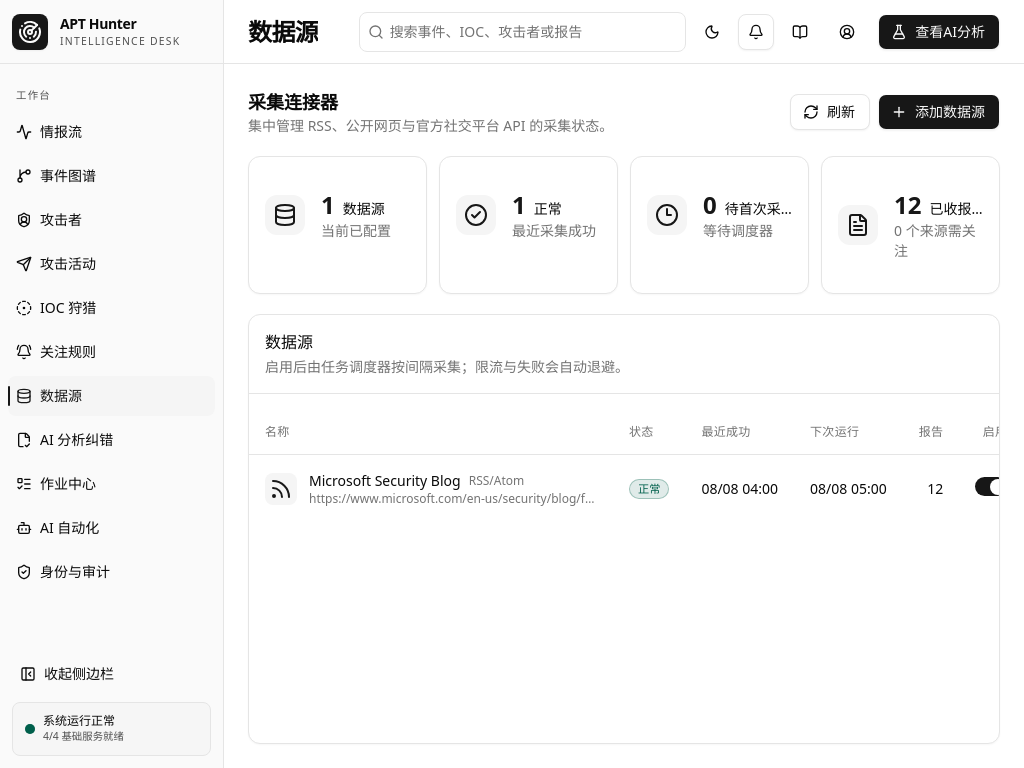
Test: source connector management › renders live source status and report counts
This screenshot has width=1024, height=768.
Expected: the text "12" is shown, 894,189 -> 922,221
Expected: the text "正常" is shown, 534,199 -> 562,219
What coordinates should you click on to do the following:
click the text "Microsoft Security Blog"
I would click on:
 (385, 480)
Its box is 309,470 -> 461,490.
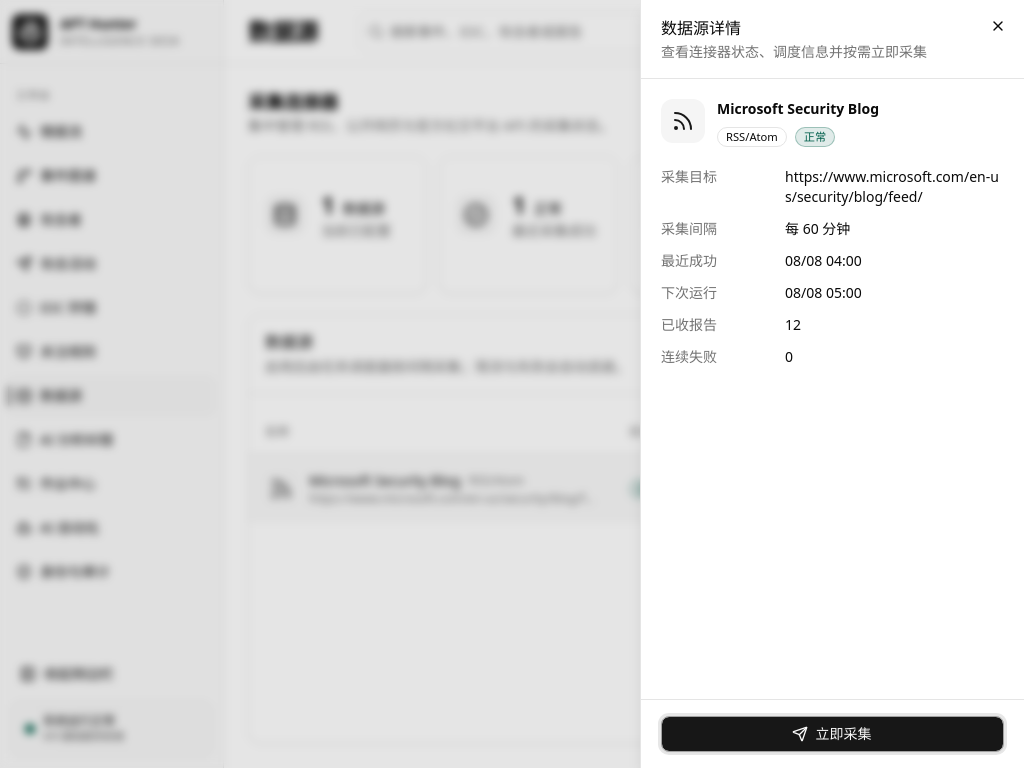
Expected: the button "立即采集" is shown, 661,716 -> 1004,752
